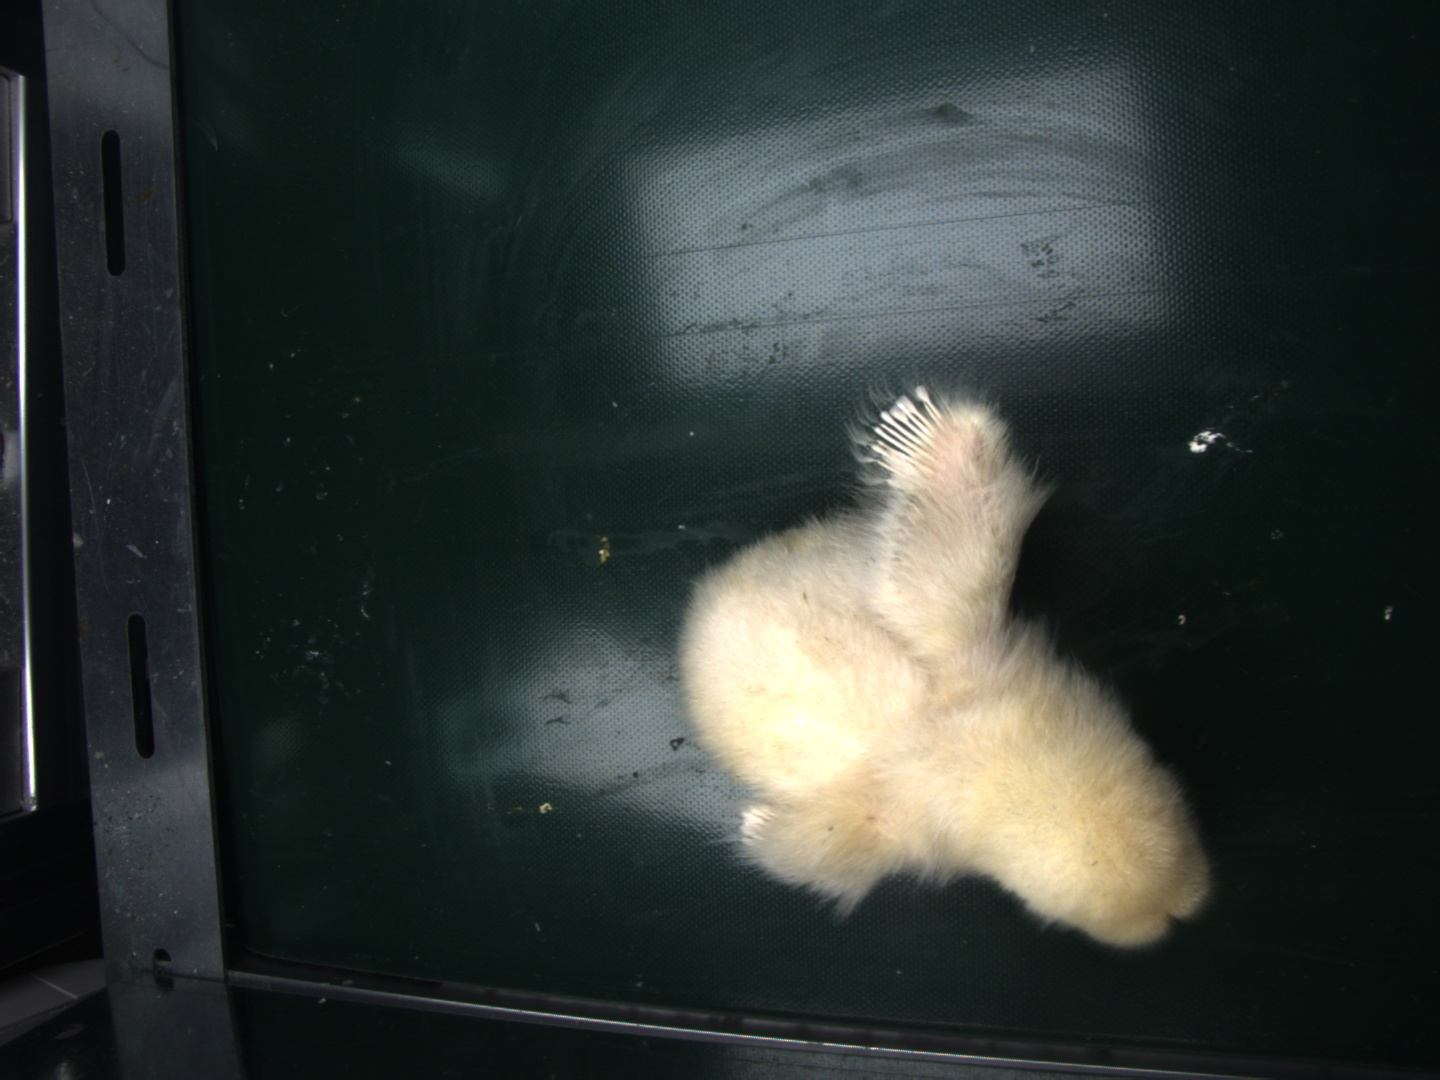male: (865, 381, 948, 481)
